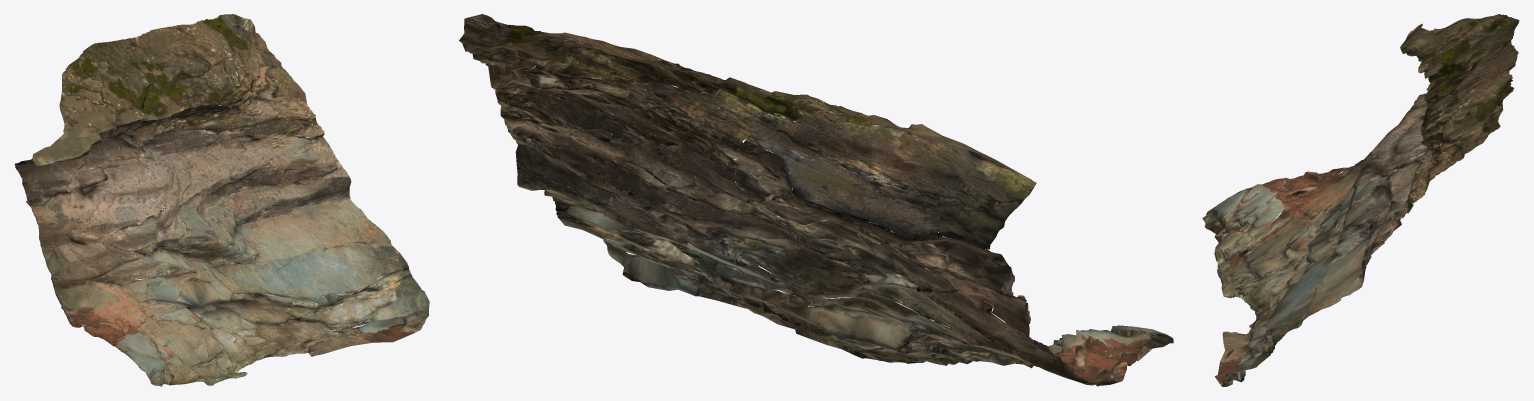
The model's file is rock_face.glb.
3 renders of one model, left to right at view 1: azimuth 30°, elevation 25°; view 2: azimuth 150°, elevation 25°; view 3: azimuth 270°, elevation 25°, orthographic. The views are drawn at different scales.
Parts seen in each view (by area): view 1: rockface_a; view 2: rockface_a; view 3: rockface_a.
Part boxes in pixels (left/top/right/bottom): rockface_a: left=14, top=14, right=429, bottom=386; rockface_a: left=458, top=14, right=1173, bottom=386; rockface_a: left=1202, top=14, right=1519, bottom=386.
Size of the model in its own units: 4.95 by 3.57 by 3.83.
Materials: 1 (1 with a texture image).
